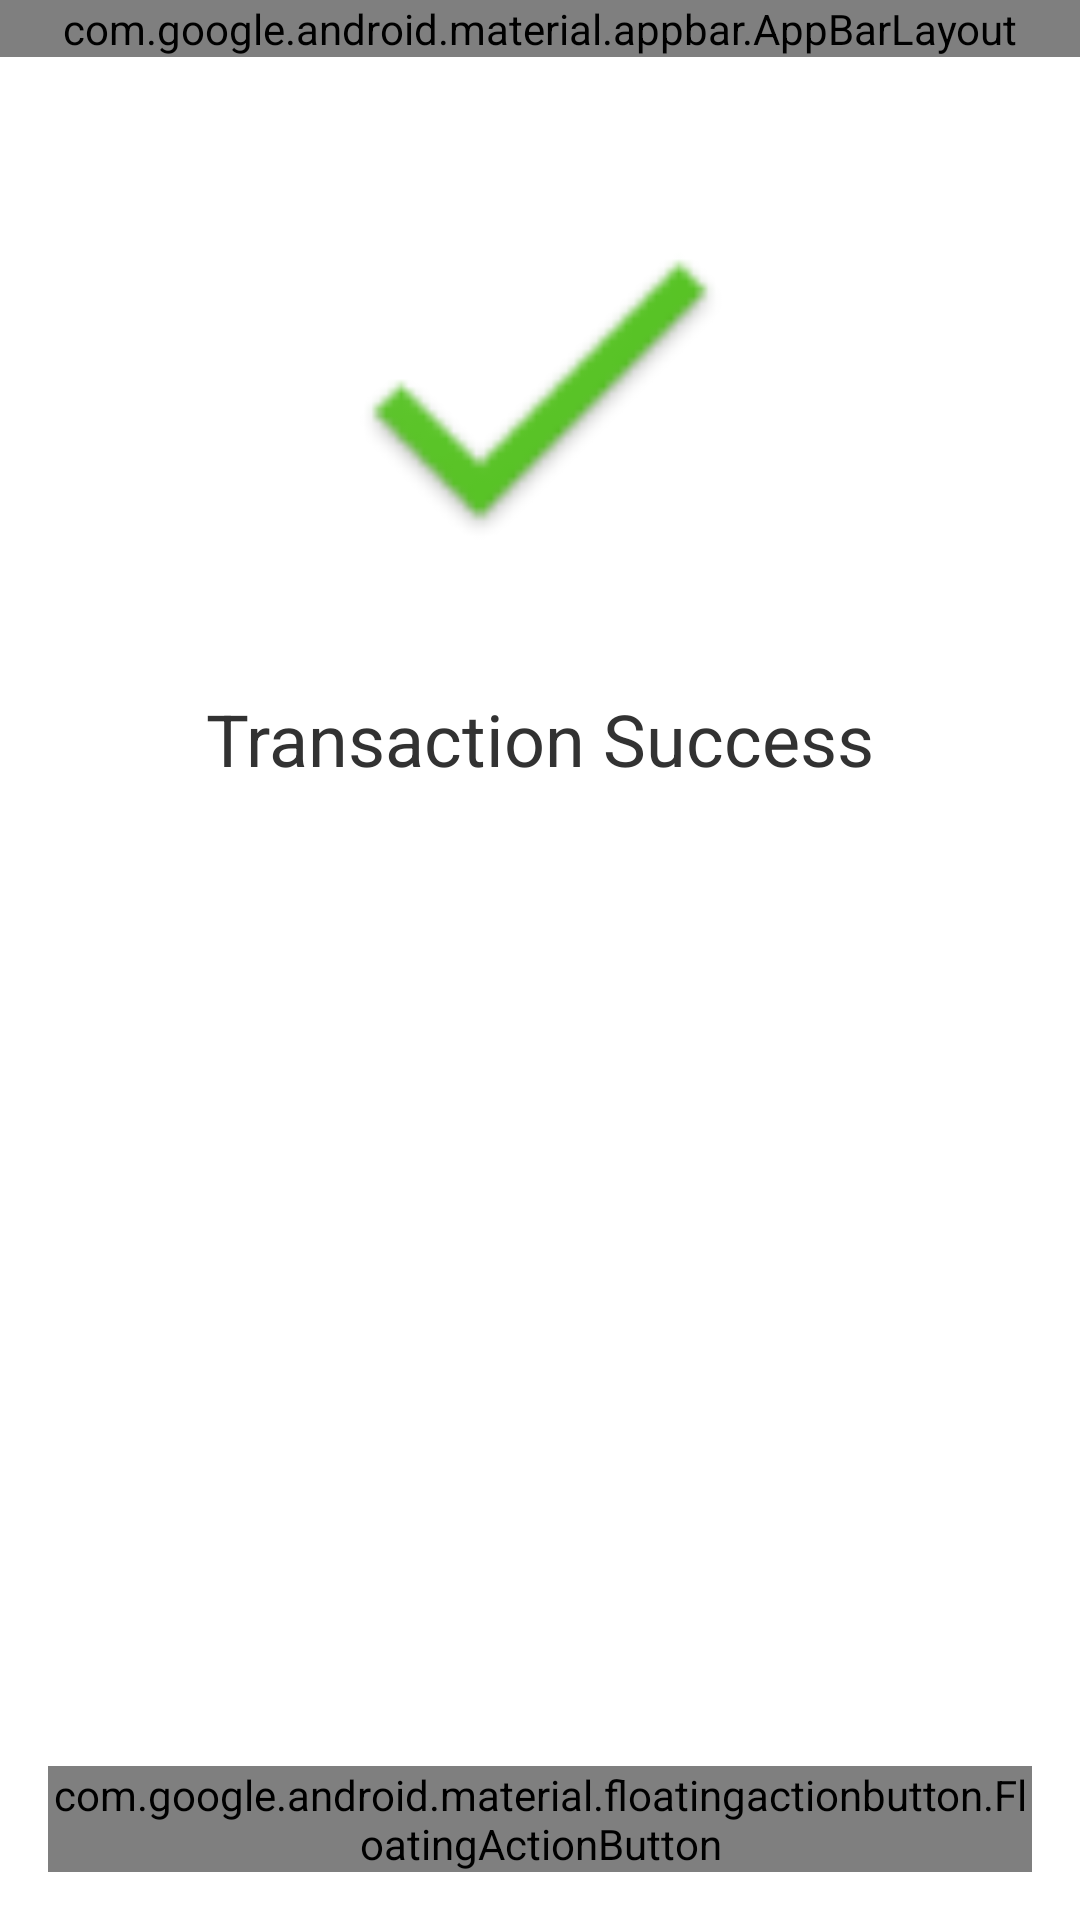

Named icons in this screenshot (1080 × 1920) and their bounding boxes, (x1, y1, x2, y2):
check marker: (372, 260, 708, 523)
